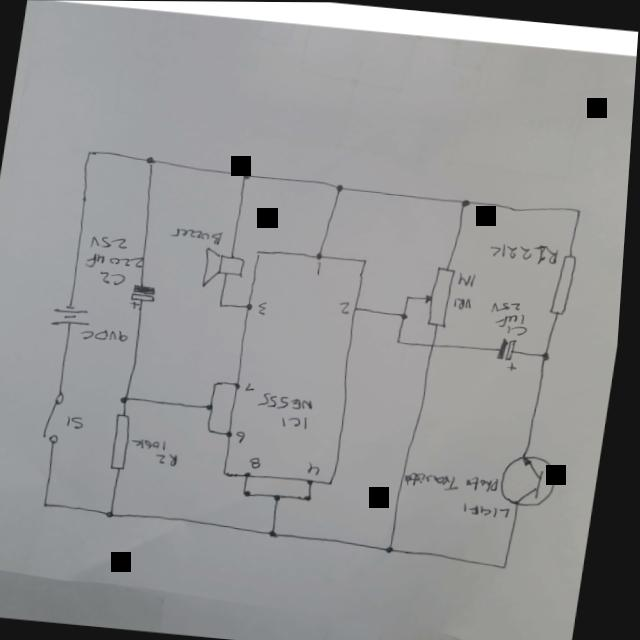capacitor: (499, 337, 527, 371), (132, 281, 162, 312)
crossover: (430, 339, 444, 352)
junction: (391, 543, 405, 556), (310, 491, 323, 505), (248, 487, 262, 500), (207, 402, 221, 415), (506, 558, 519, 571), (273, 527, 286, 540), (278, 490, 291, 503), (215, 378, 227, 389), (211, 425, 222, 436), (398, 336, 409, 347), (545, 351, 556, 362), (576, 206, 587, 217), (337, 183, 348, 194), (244, 171, 255, 182), (147, 155, 158, 166), (408, 293, 418, 305), (464, 198, 474, 209), (404, 310, 414, 321), (221, 299, 231, 310), (87, 148, 97, 159), (125, 395, 135, 406), (112, 509, 122, 520), (48, 499, 58, 510)
resistor: (421, 263, 461, 330), (551, 253, 583, 317), (113, 411, 140, 472)
source: (54, 301, 99, 330)
switch: (46, 387, 75, 447)
text: (84, 234, 150, 289), (258, 390, 321, 430), (408, 471, 506, 495), (491, 236, 565, 267), (491, 298, 536, 338), (133, 435, 187, 467), (173, 226, 227, 246), (83, 325, 135, 345), (467, 499, 517, 519), (460, 269, 482, 289), (455, 294, 479, 310), (71, 414, 91, 432), (311, 459, 328, 477), (255, 454, 269, 471), (239, 429, 253, 446), (343, 301, 357, 316), (317, 259, 328, 278), (260, 300, 273, 315), (248, 381, 262, 394)
transistor: (502, 451, 566, 510)
